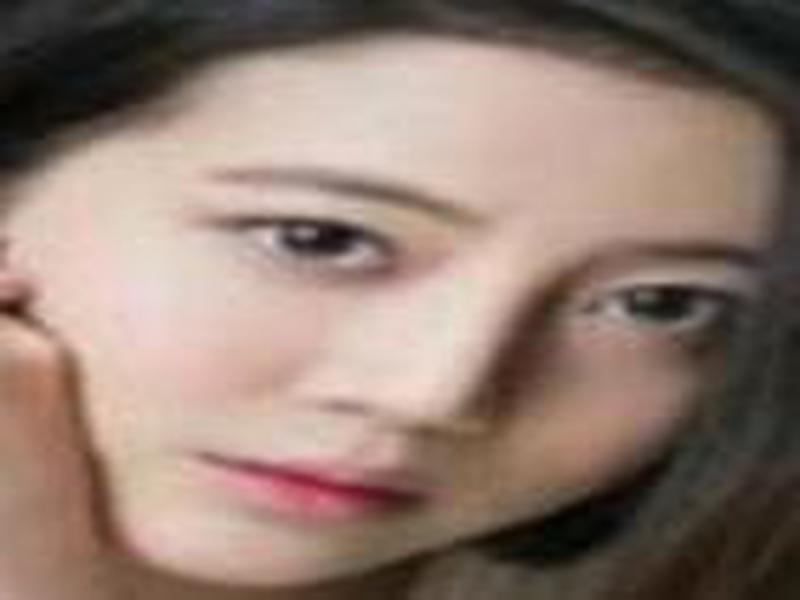without_mask: (12, 40, 776, 585)
